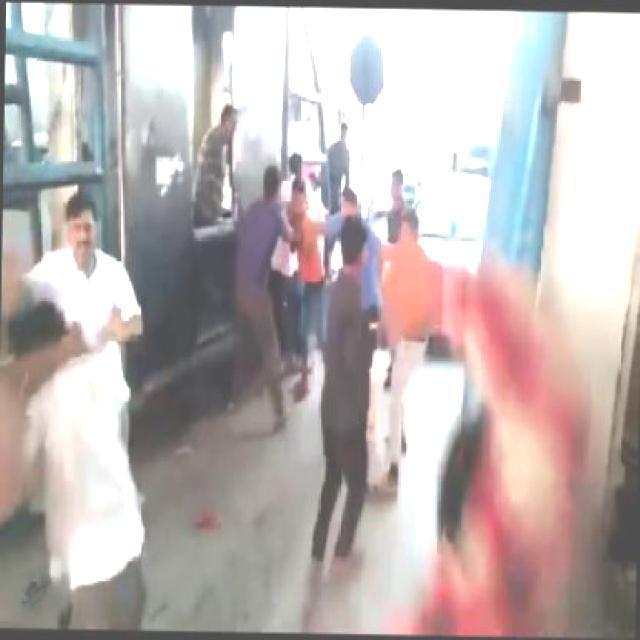fight: (18, 192, 146, 496)
